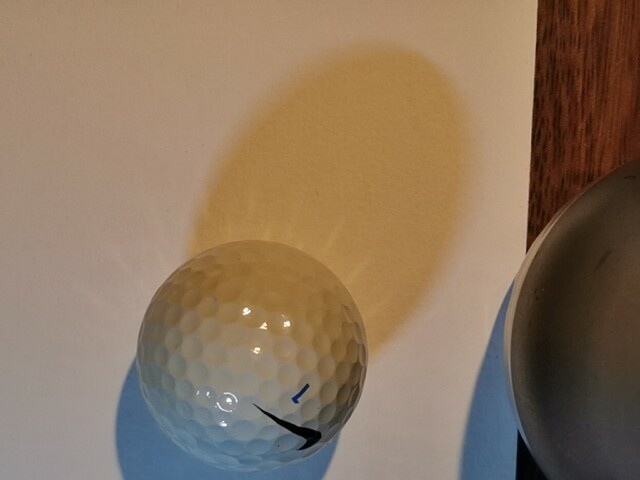Ball: (135, 240, 368, 474)
Nike: (252, 403, 323, 451)
